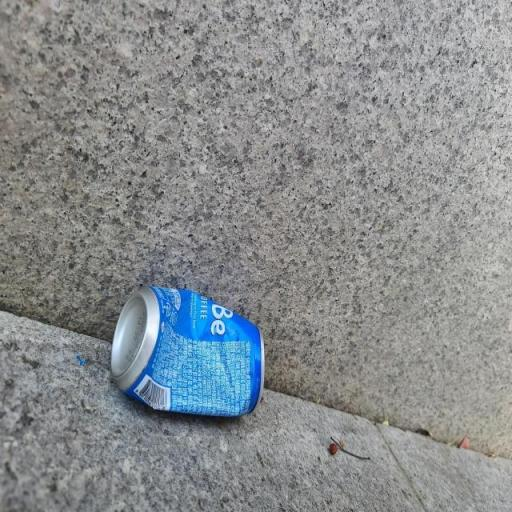metal: (91, 271, 289, 449)
